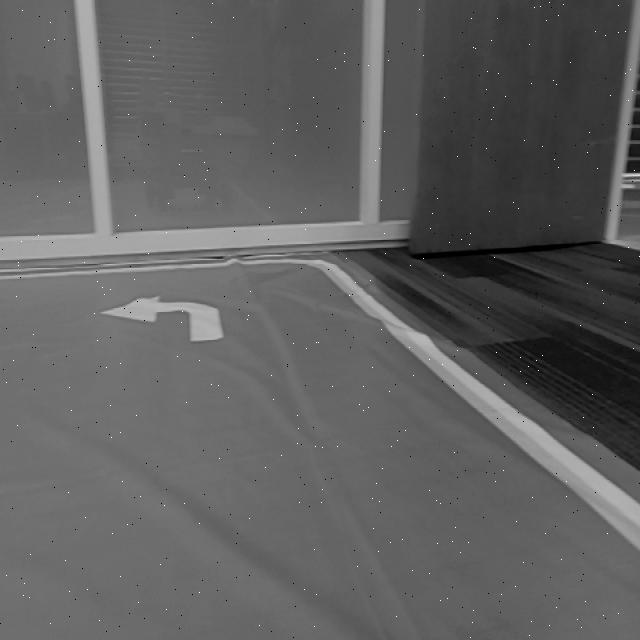right_lane: (323, 268, 640, 548)
